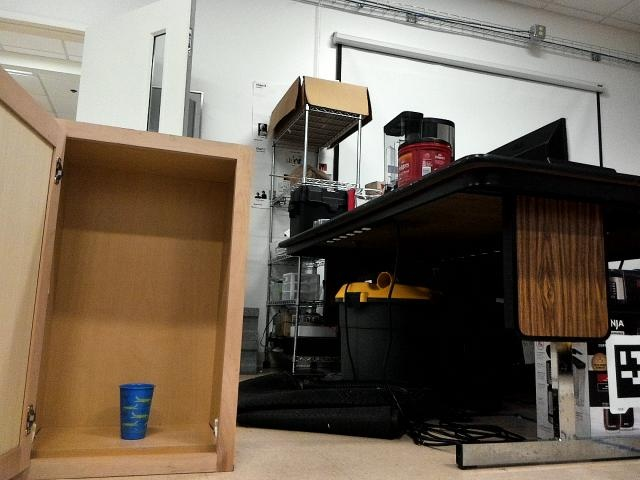water_cup: (115, 378, 156, 443)
